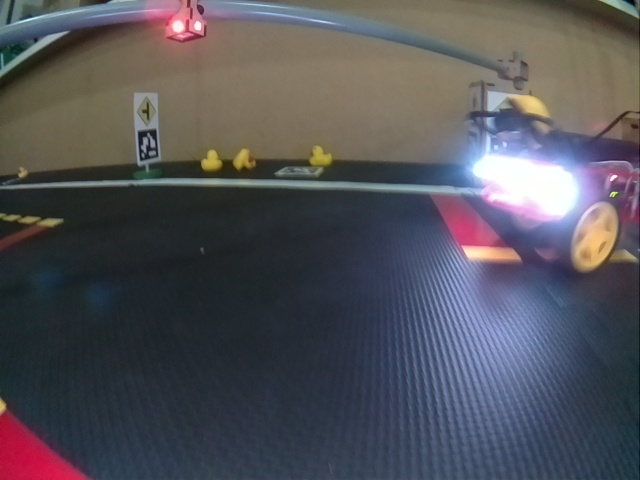Duckie: (201, 149, 221, 170), (310, 145, 330, 165), (233, 152, 256, 169), (19, 168, 27, 178)
Duckiebot: (468, 120, 638, 275)
Intersection sign: (136, 97, 158, 124)
QR code: (138, 130, 158, 164), (278, 166, 321, 177)
Traffic light: (165, 1, 203, 43)
